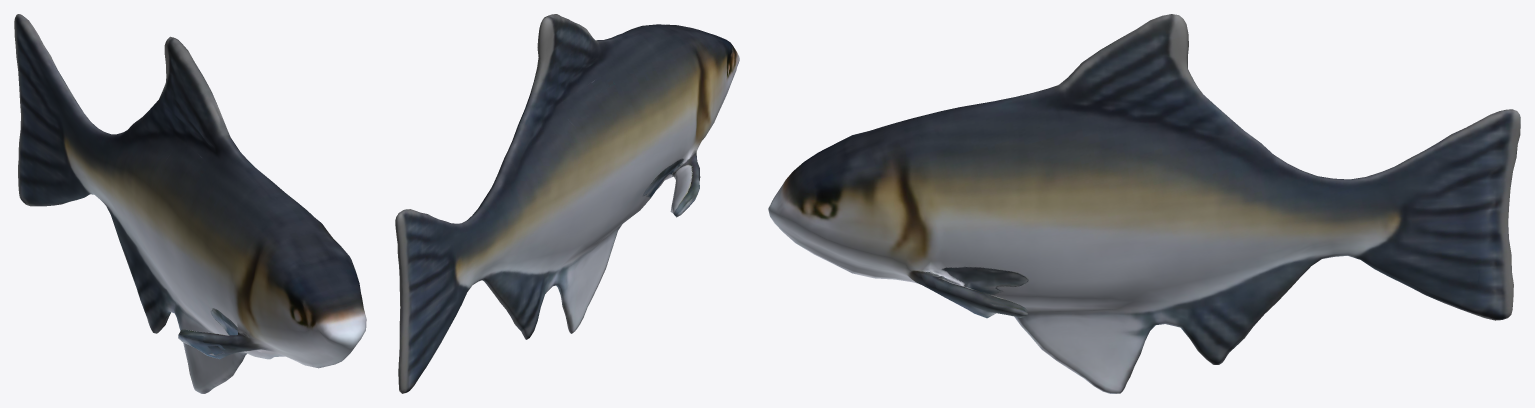
File: fish_14.glb
The picture shows the model from 3 angles, left to right: view 1: azimuth 30°, elevation 25°; view 2: azimuth 150°, elevation 25°; view 3: azimuth 270°, elevation 25°; orthographic projection. The views are drawn at different scales.
Parts seen in each view (by area): view 1: mesh; view 2: mesh; view 3: mesh.
Part boxes in pixels (left/top/right/bottom): mesh: left=14, top=14, right=366, bottom=393; mesh: left=395, top=14, right=739, bottom=393; mesh: left=768, top=14, right=1520, bottom=393.
Bounding box in the file's own units: 0.2535 × 0.5561 × 0.998.
1 material, 1 textured.
